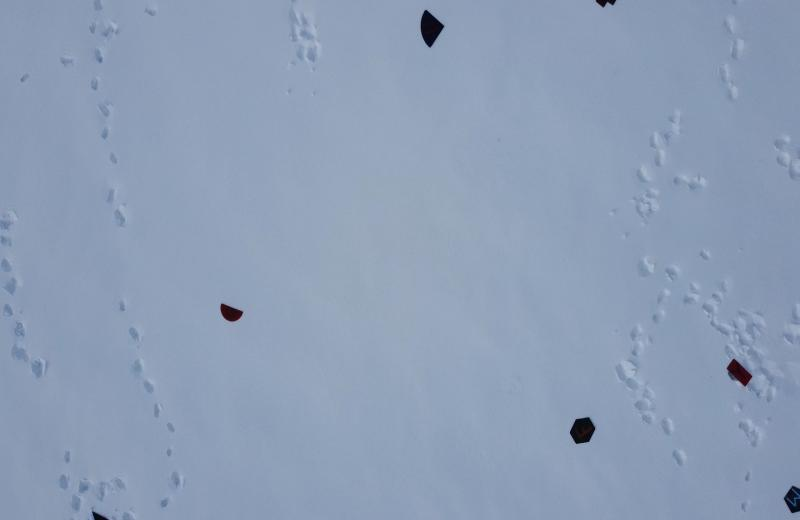Hexagon: (568, 413, 599, 449)
Pentagon: (782, 478, 800, 520)
Quarter Circle: (414, 4, 446, 52)
Rectangle: (1, 0, 800, 520), (724, 352, 752, 392)
Semi Circle: (217, 302, 245, 332)
